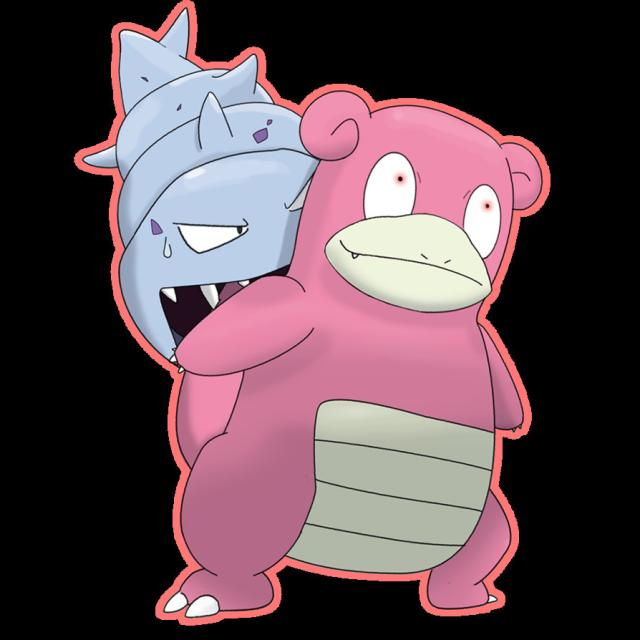Slowbro: (39, 26, 594, 639)
